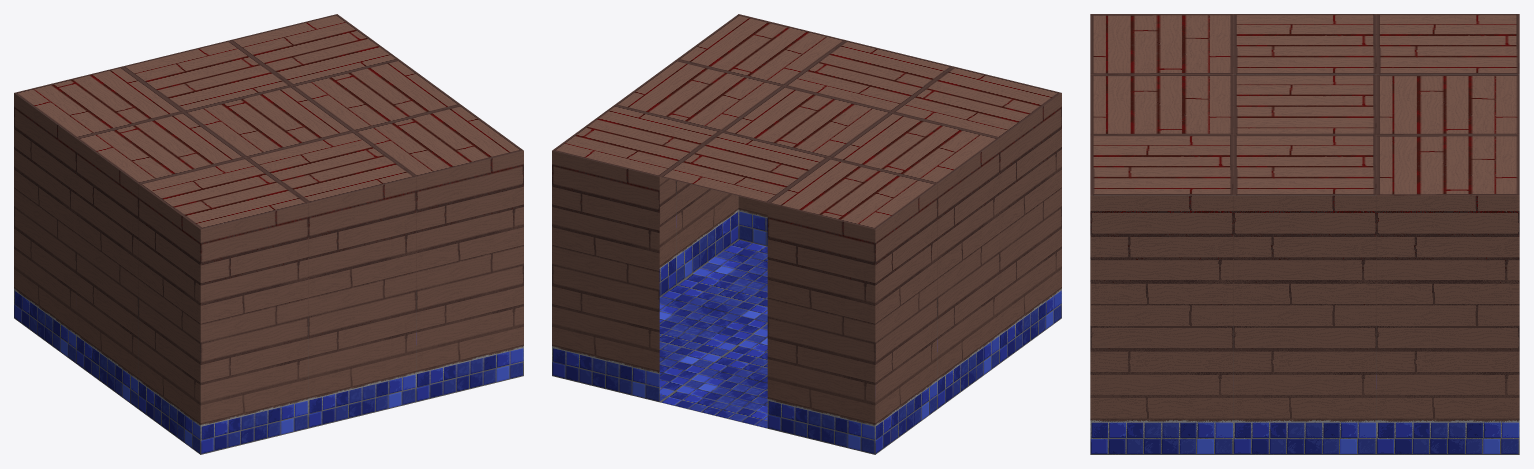
Rendered from SaunaWalls_Wide_1.fbx.
3 views of the same model, side by side, from view 1: azimuth 30°, elevation 25°; view 2: azimuth 150°, elevation 25°; view 3: azimuth 270°, elevation 25° (orthographic). The views are drawn at different scales.
Visible parts, largest first — view 1: Room_Wide 1 DeadEnd; view 2: Room_Wide 1 DeadEnd; view 3: Room_Wide 1 DeadEnd.
Boxes of the visible parts, x1,y1,x2,y2 form: Room_Wide 1 DeadEnd: (14, 14, 523, 454); Room_Wide 1 DeadEnd: (552, 14, 1061, 454); Room_Wide 1 DeadEnd: (1090, 14, 1519, 454).
Size of the model in its own units: 300 by 200 by 300.
